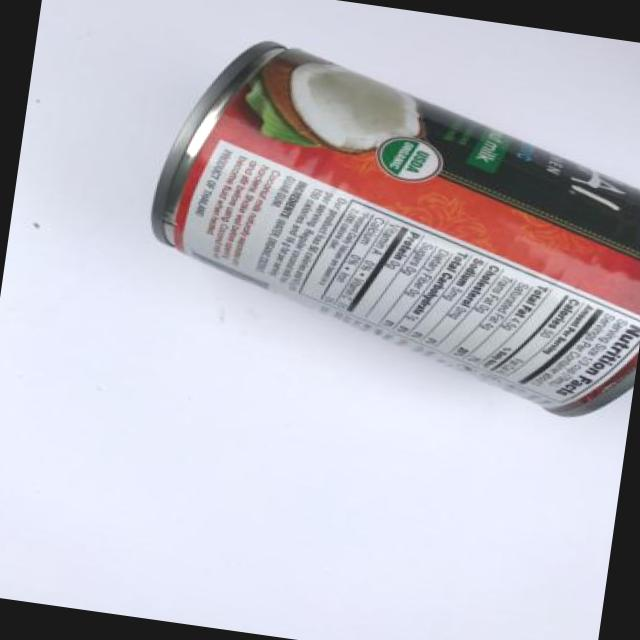metal: (152, 41, 286, 245)
